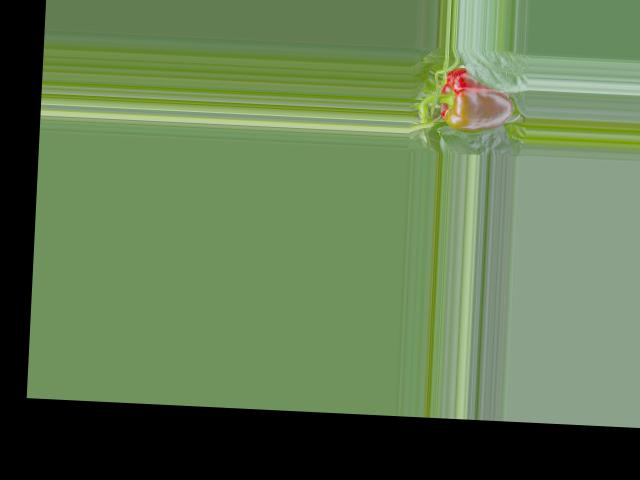bell_pepper: (429, 63, 519, 141)
